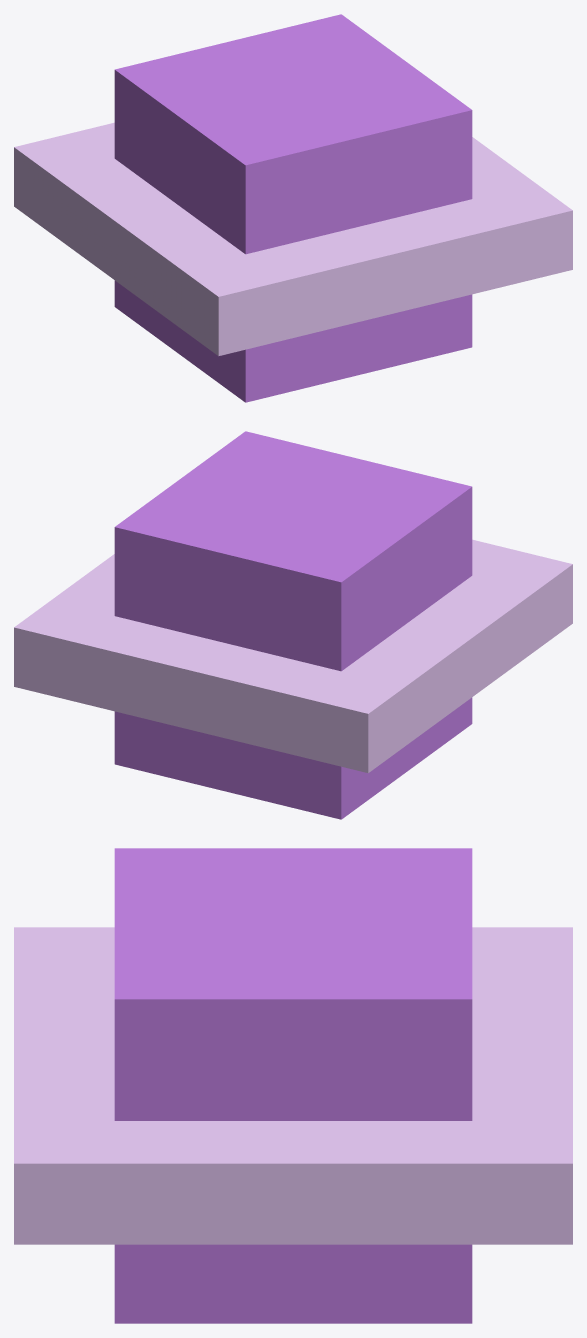
The model's file is hex_bolt.gltf.
3 renders of one model, top to bottom at view 1: azimuth 30°, elevation 25°; view 2: azimuth 150°, elevation 25°; view 3: azimuth 270°, elevation 25°, orthographic. The views are drawn at different scales.
Visible parts, largest first — view 1: core, halo; view 2: core, halo; view 3: core, halo.
Part boxes in pixels (bbox=[...]): core: bbox=[114, 14, 472, 402]; halo: bbox=[14, 122, 572, 356]; core: bbox=[114, 431, 472, 819]; halo: bbox=[14, 539, 572, 773]; core: bbox=[114, 848, 472, 1323]; halo: bbox=[14, 927, 572, 1244].
Bounding box in the file's own units: 0.5 × 0.32 × 0.5.
